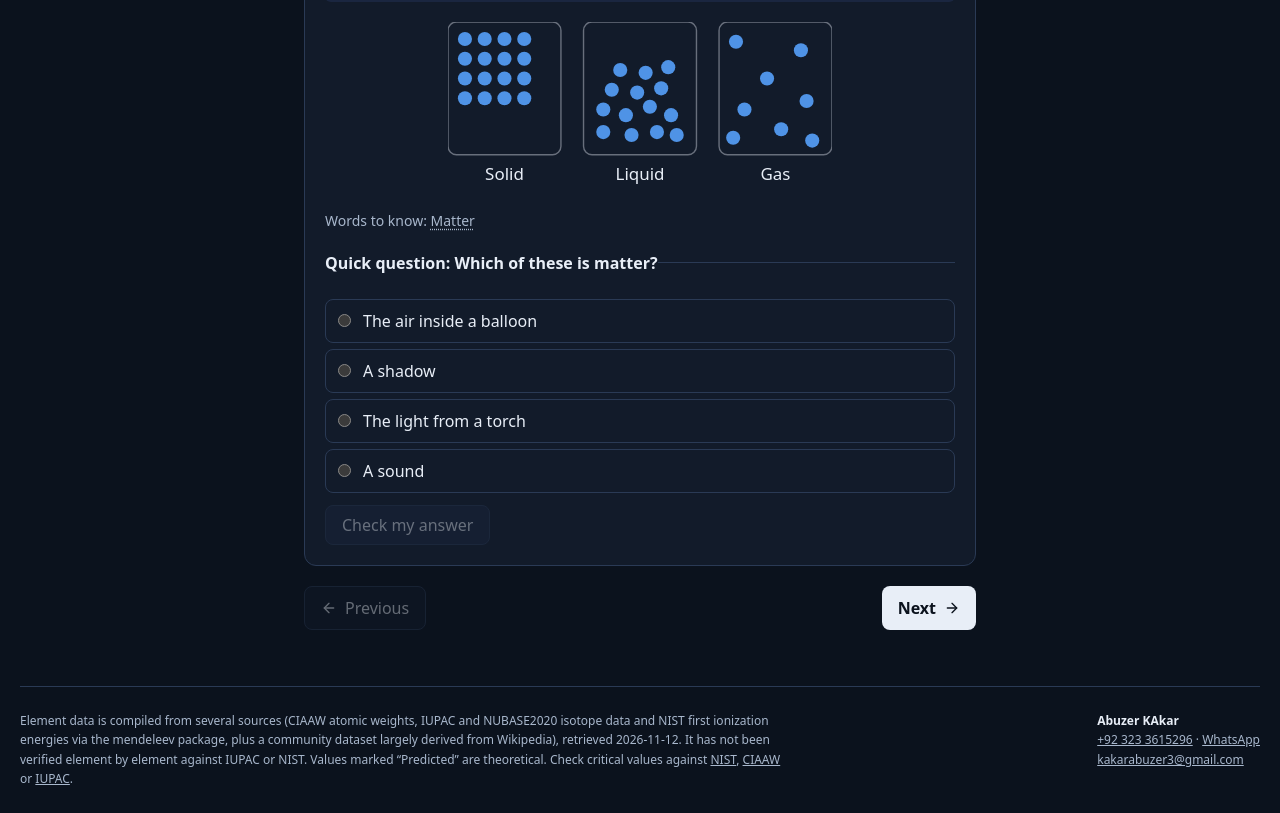
Test: first-time introduction › starts a new visitor on lesson 1 of 8 with progress, and walks forward and back
This screenshot has width=1280, height=813.
(page scrolled)
Expected: the button "Previous" is disabled, [304,586,426,630]
Click the button "Next" at (929, 608), box [882,586,976,630]
(page scrolled)
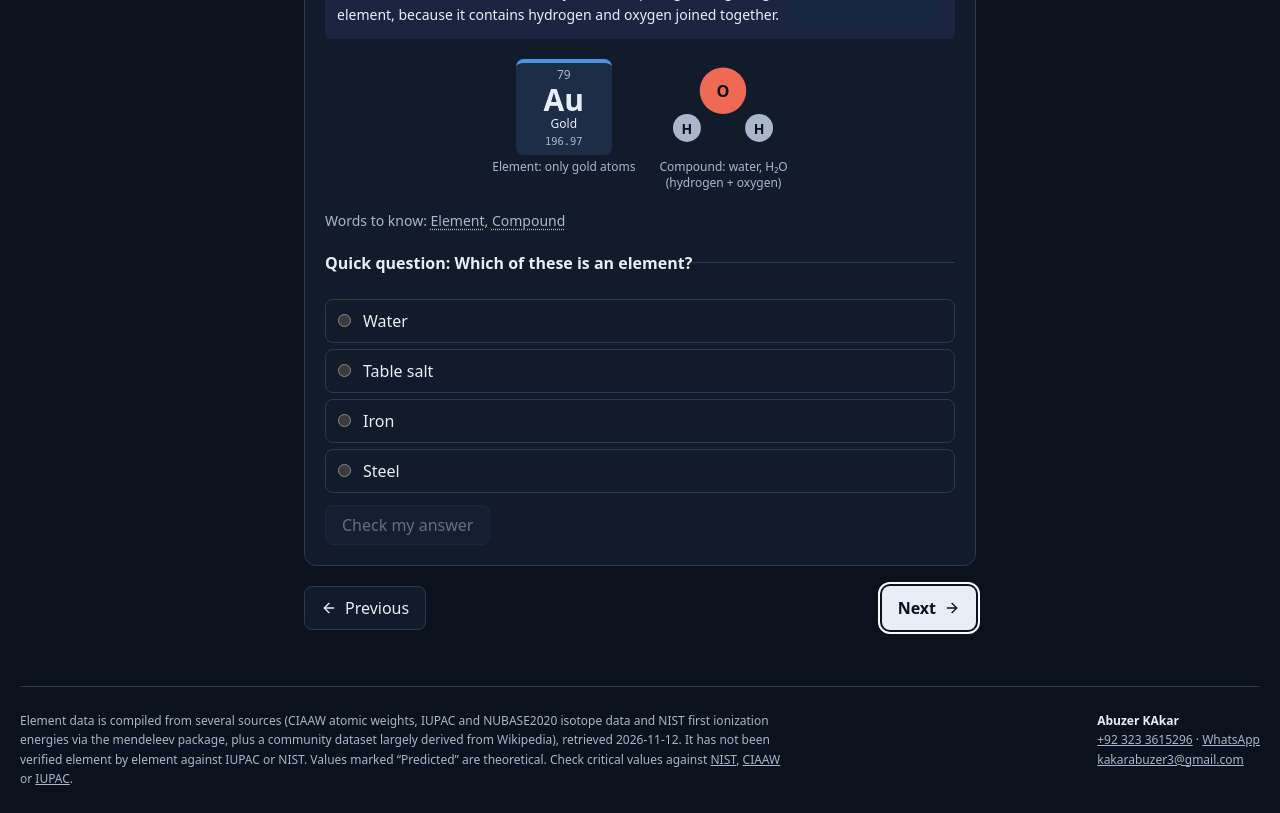
Click the button "Previous" at (365, 608), box [304,586,426,630]
(page scrolled)
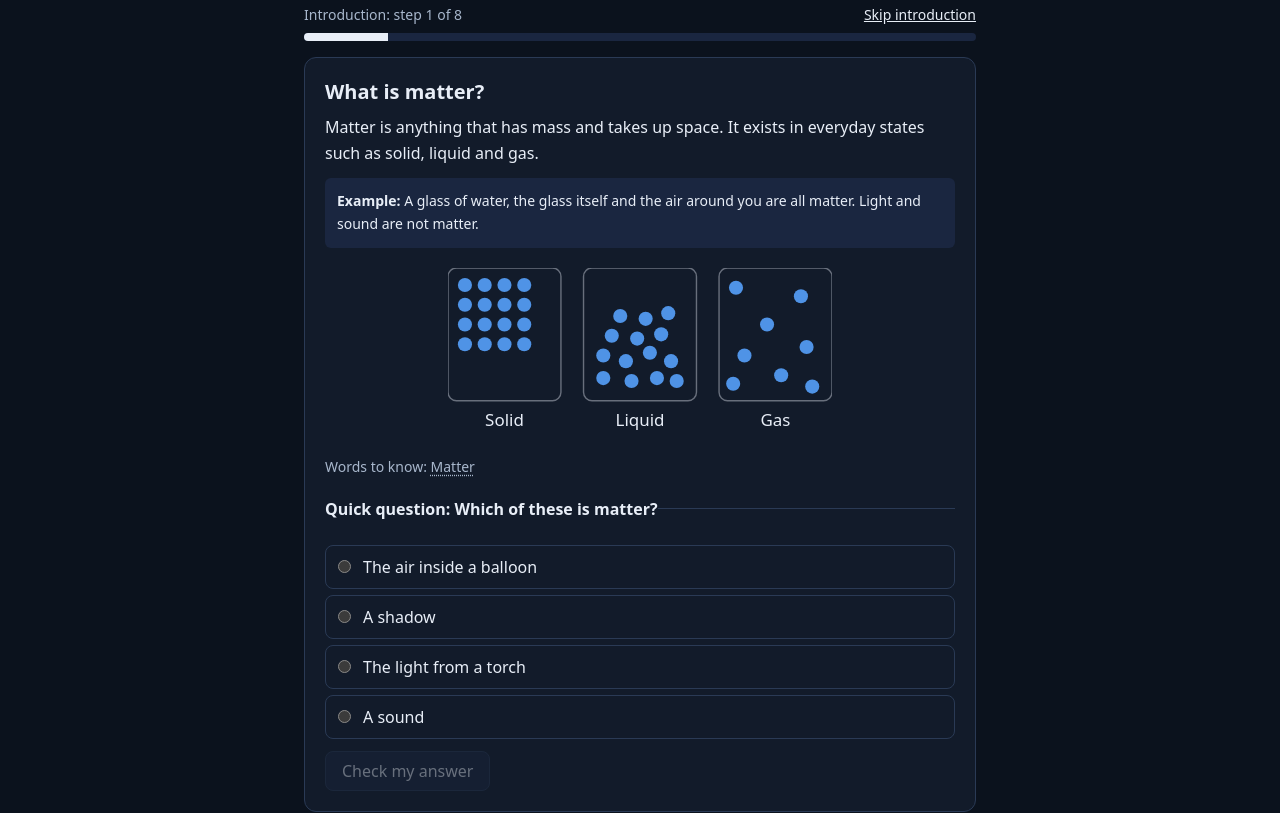
Expected: the heading "What is matter?" is shown, [325,78,484,105]
